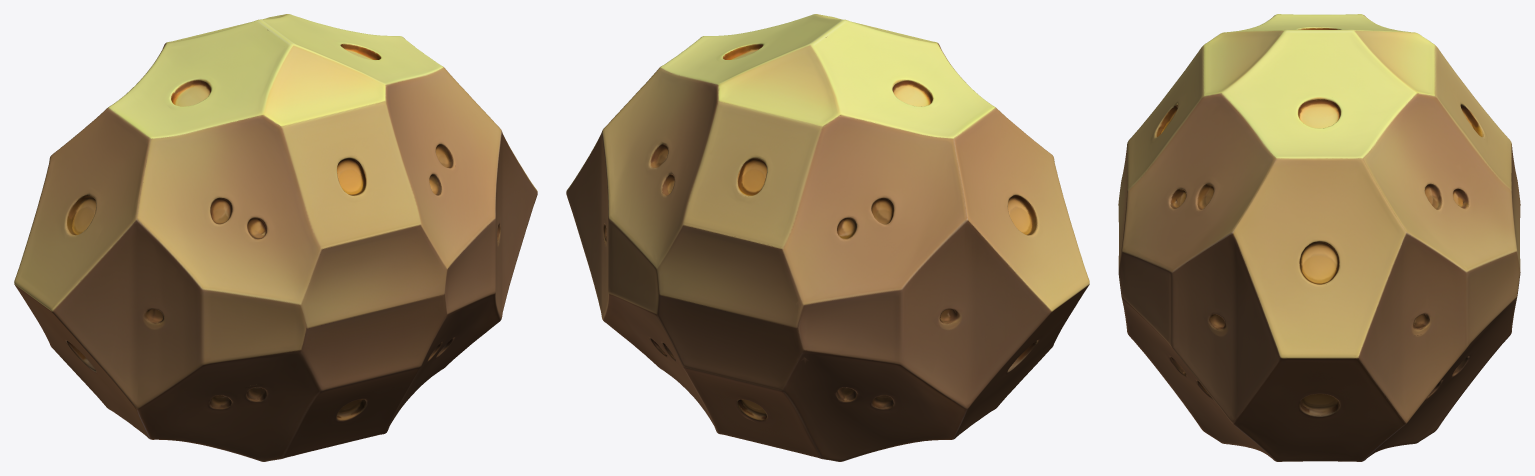
Rendered from Simple Asteroid.fbx.
The picture shows the model from 3 angles, left to right: view 1: azimuth 30°, elevation 25°; view 2: azimuth 150°, elevation 25°; view 3: azimuth 270°, elevation 25°; orthographic projection.
Parts seen in each view (by area): view 1: Simple Asteroid. Cartoon; view 2: Simple Asteroid. Cartoon; view 3: Simple Asteroid. Cartoon.
Boxes of the visible parts, x1,y1,x2,y2 form: Simple Asteroid. Cartoon: (14,14,537,461); Simple Asteroid. Cartoon: (566,14,1089,461); Simple Asteroid. Cartoon: (1118,14,1520,461).
Size of the model in its own units: 190 by 154 by 135.
